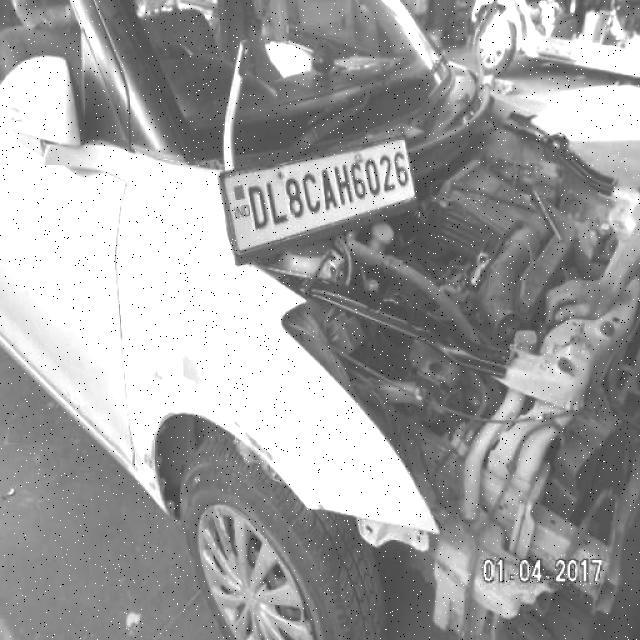car damage: (273, 169, 635, 632), (171, 339, 265, 410), (123, 220, 182, 303), (138, 399, 177, 514), (202, 268, 265, 324), (224, 410, 283, 467), (143, 354, 175, 388)
